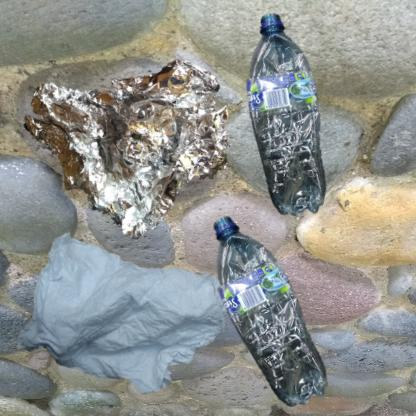aluminio: (10, 10, 293, 287)
botella: (213, 10, 386, 252), (213, 213, 330, 412)
papel: (10, 213, 275, 416)
